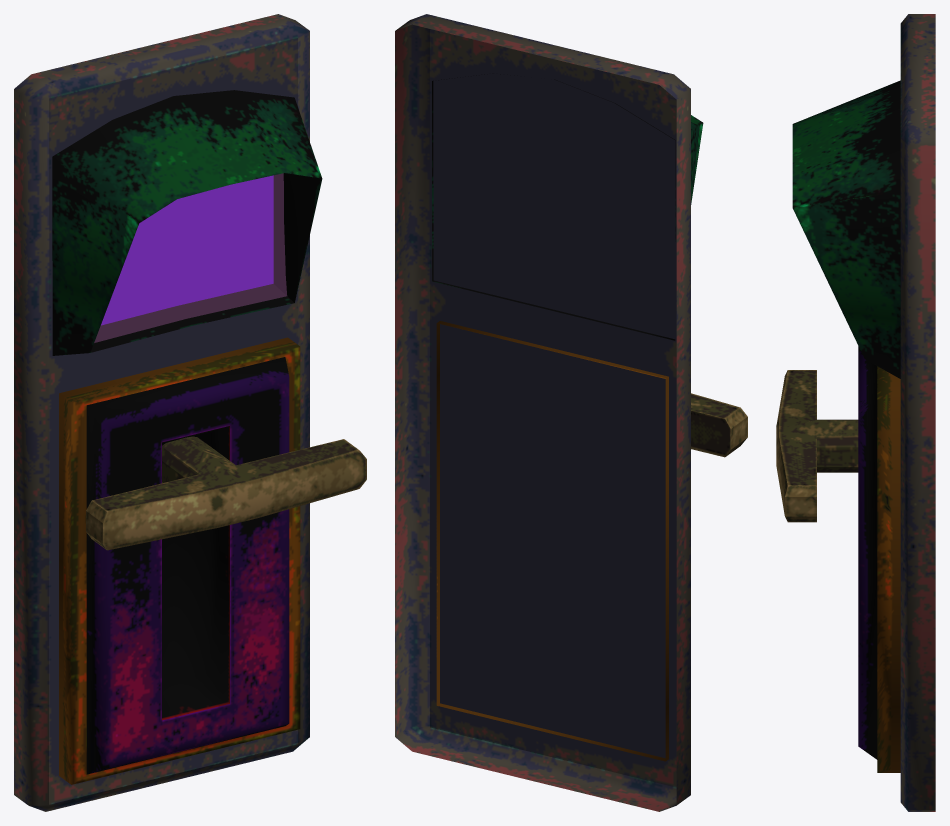
File: switch.glb
The picture shows the model from 3 angles, left to right: view 1: azimuth 30°, elevation 25°; view 2: azimuth 150°, elevation 25°; view 3: azimuth 270°, elevation 25°; orthographic projection. The views are drawn at different scales.
Parts seen in each view (by area): view 1: Main, DisplayGlass, Handler; view 2: Main, Handler; view 3: Main, Handler.
Boxes of the visible parts, left/top/right/bottom form: Main: left=14, top=14, right=322, bottom=811; DisplayGlass: left=94, top=173, right=286, bottom=342; Handler: left=86, top=436, right=366, bottom=550; Main: left=395, top=14, right=703, bottom=811; Handler: left=691, top=393, right=747, bottom=457; Main: left=792, top=14, right=935, bottom=811; Handler: left=776, top=370, right=858, bottom=522.
Bounding box in the file's own units: 0.1082 × 0.2671 × 0.0564.
3 materials, 2 textured.
